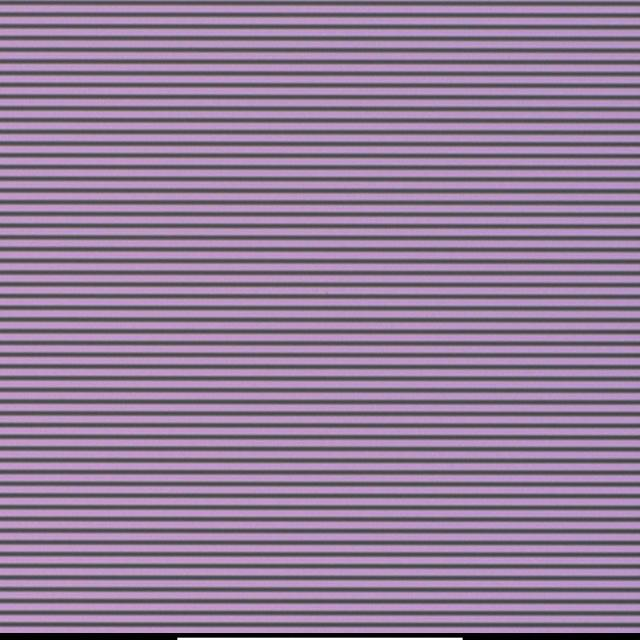nonvisual: (323, 290, 331, 298)
